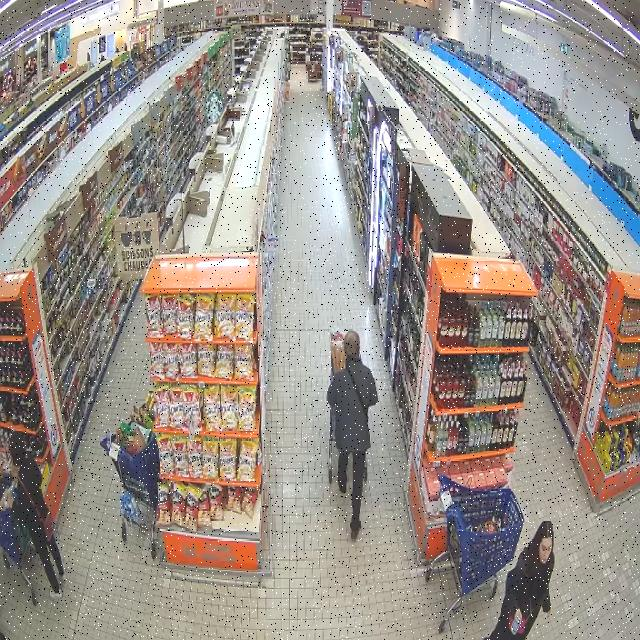bags: (20, 481, 54, 540), (346, 365, 368, 424)
hands: (11, 466, 19, 482), (7, 490, 14, 508), (515, 608, 521, 619), (548, 609, 551, 619)
person: (328, 331, 378, 538), (10, 432, 65, 598), (487, 521, 554, 639)
